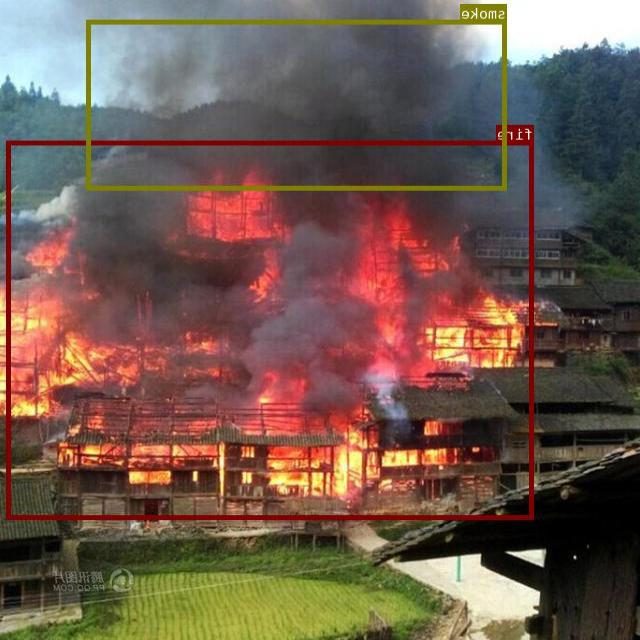fire: (8, 140, 535, 518)
smoke: (87, 19, 507, 189)
